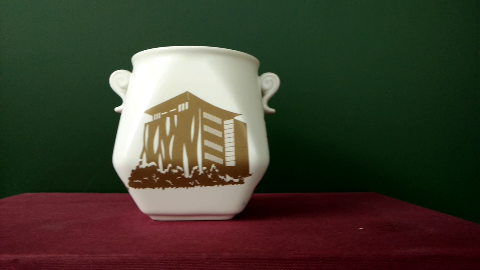library: (141, 98, 241, 181)
